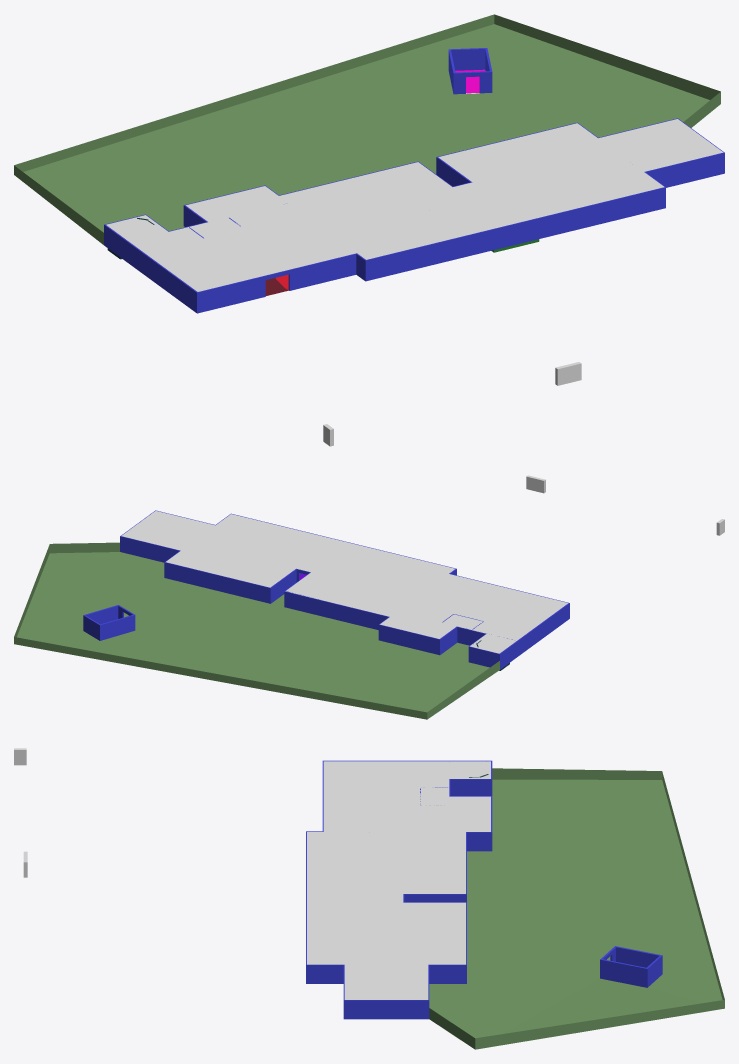
The model's file is classe.fbx.
The picture shows the model from 3 angles, top to bottom: view 1: azimuth 30°, elevation 25°; view 2: azimuth 150°, elevation 25°; view 3: azimuth 270°, elevation 25°; orthographic projection. The views are drawn at different scales.
Parts seen in each view (by area): view 1: vert, solHall.004, Cube.015, sollVest.012, sollVest.008, sollVest.007, solHall.003, sollVest.011, sollVest.010, sollVest.009, Cube.001, sollVest.013 (+4 smaller); view 2: vert, solHall.004, sollVest.012, sollVest.007, sollVest.008, solHall.003, sollVest.009, sollVest.010, sollVest.011, Cube.020, Cube.017, sollVest.013 (+8 smaller); view 3: vert, solHall.004, sollVest.012, sollVest.007, sollVest.008, solHall.003, sollVest.009, sollVest.010, sollVest.011, Cube.030, Cube.014, sollVest.013 (+5 smaller).
Boxes of the visible parts, x1,y1,x2,y2 form: vert: (14,14,720,244); solHall.004: (129,203,356,291); Cube.015: (367,187,663,280); sollVest.012: (313,148,629,234); sollVest.008: (279,162,452,220); sollVest.007: (438,123,611,182); solHall.003: (598,119,723,171); sollVest.011: (332,210,465,259); sollVest.010: (431,186,564,235); sollVest.009: (531,162,664,211); Cube.001: (199,253,356,312); sollVest.013: (186,186,287,221); vert: (14,542,499,719); solHall.004: (397,574,568,640); sollVest.012: (192,533,429,597); sollVest.007: (166,543,295,587); sollVest.008: (285,572,415,616); solHall.003: (121,511,214,550); sollVest.009: (205,514,305,550); sollVest.010: (280,532,380,569); sollVest.011: (355,550,455,587); Cube.020: (166,562,269,603); Cube.017: (285,591,388,629); sollVest.013: (380,612,456,638); vert: (429,768,724,1049); solHall.004: (323,761,449,831); sollVest.012: (369,832,403,964); sollVest.007: (403,902,465,964); sollVest.008: (403,832,465,893); solHall.003: (344,964,428,999); sollVest.009: (307,920,369,964); sollVest.010: (307,876,369,920); sollVest.011: (307,832,369,876); Cube.030: (345,1000,427,1019); Cube.014: (306,964,466,983); sollVest.013: (449,796,490,831).
Size of the model in its own units: 32368 by 1210 by 33978.
